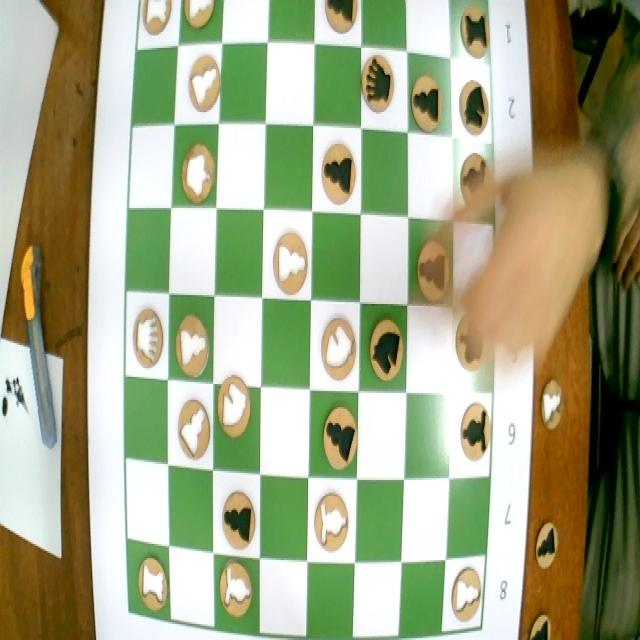chess-pieces: (264, 213, 311, 298), (314, 402, 363, 478), (175, 125, 216, 209), (315, 307, 358, 387), (212, 370, 255, 450), (216, 477, 258, 553), (310, 482, 352, 556), (172, 307, 212, 383), (170, 389, 211, 463), (368, 312, 405, 392), (130, 296, 167, 372), (322, 136, 357, 212), (360, 49, 399, 116), (456, 74, 493, 144), (218, 559, 258, 622), (134, 545, 169, 616), (446, 560, 482, 629), (452, 400, 492, 462), (182, 55, 224, 113), (412, 68, 445, 134), (459, 8, 495, 64), (318, 0, 364, 43), (138, 0, 178, 44), (459, 160, 492, 203), (180, 0, 220, 31)
